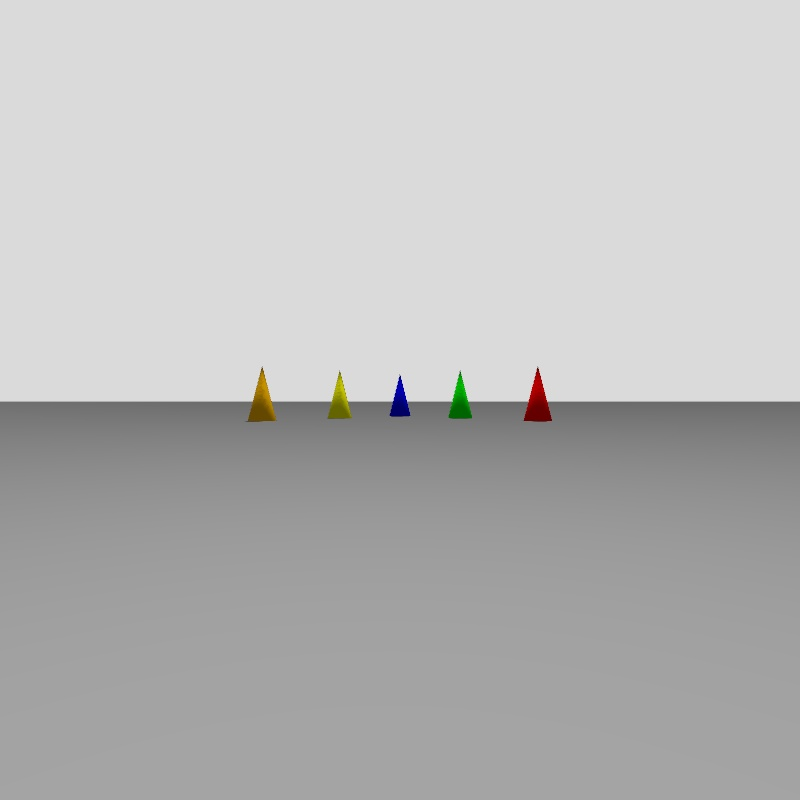Blue_cone: (390, 376, 409, 416)
Green_cone: (449, 372, 472, 418)
Orange_cone: (247, 368, 275, 420)
Red_cone: (524, 367, 551, 420)
Yellow_cone: (328, 372, 351, 418)
